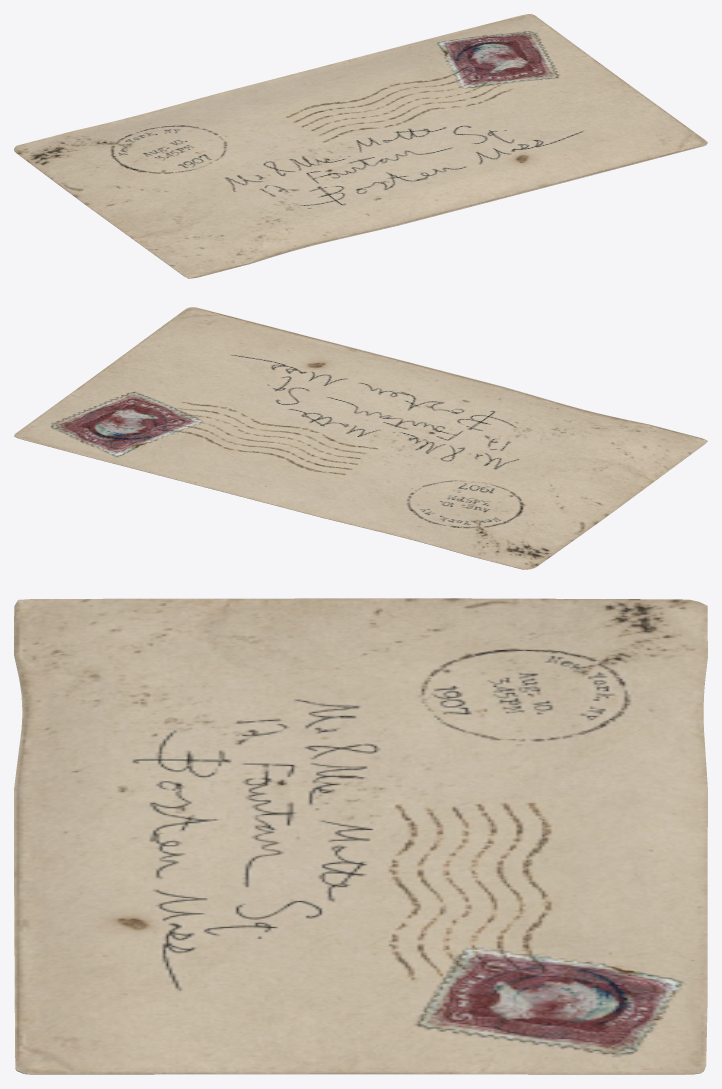
The model's file is Envelope B.fbx.
3 views of the same model, one above another, from view 1: azimuth 30°, elevation 25°; view 2: azimuth 150°, elevation 25°; view 3: azimuth 270°, elevation 25° (orthographic). The views are drawn at different scales.
Parts seen in each view (by area): view 1: Envelope B; view 2: Envelope B; view 3: Envelope B.
Part boxes in pixels (box(x1,y1,x2,y2)): Envelope B: box(14, 14, 707, 278); Envelope B: box(14, 307, 707, 569); Envelope B: box(14, 598, 707, 1074).
Bounding box in the file's own units: 16.77 × 0.4186 × 10.02.
Materials: 1 (1 with a texture image).
